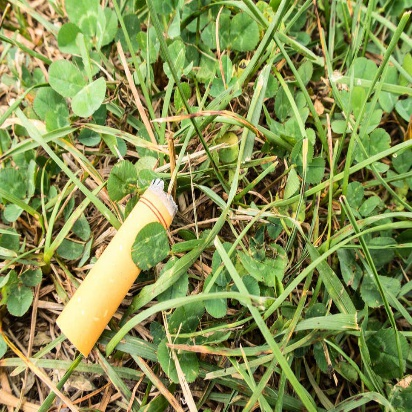cigarette: (55, 176, 182, 363)
